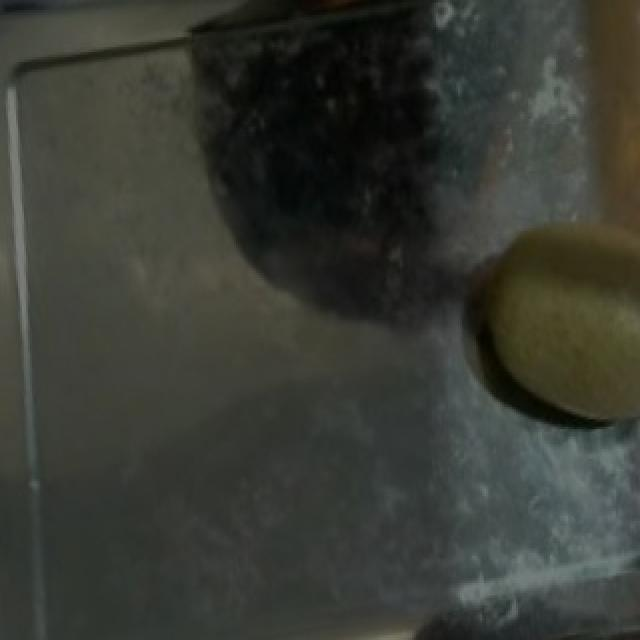Fruit: (452, 191, 640, 444), (544, 0, 640, 260)
